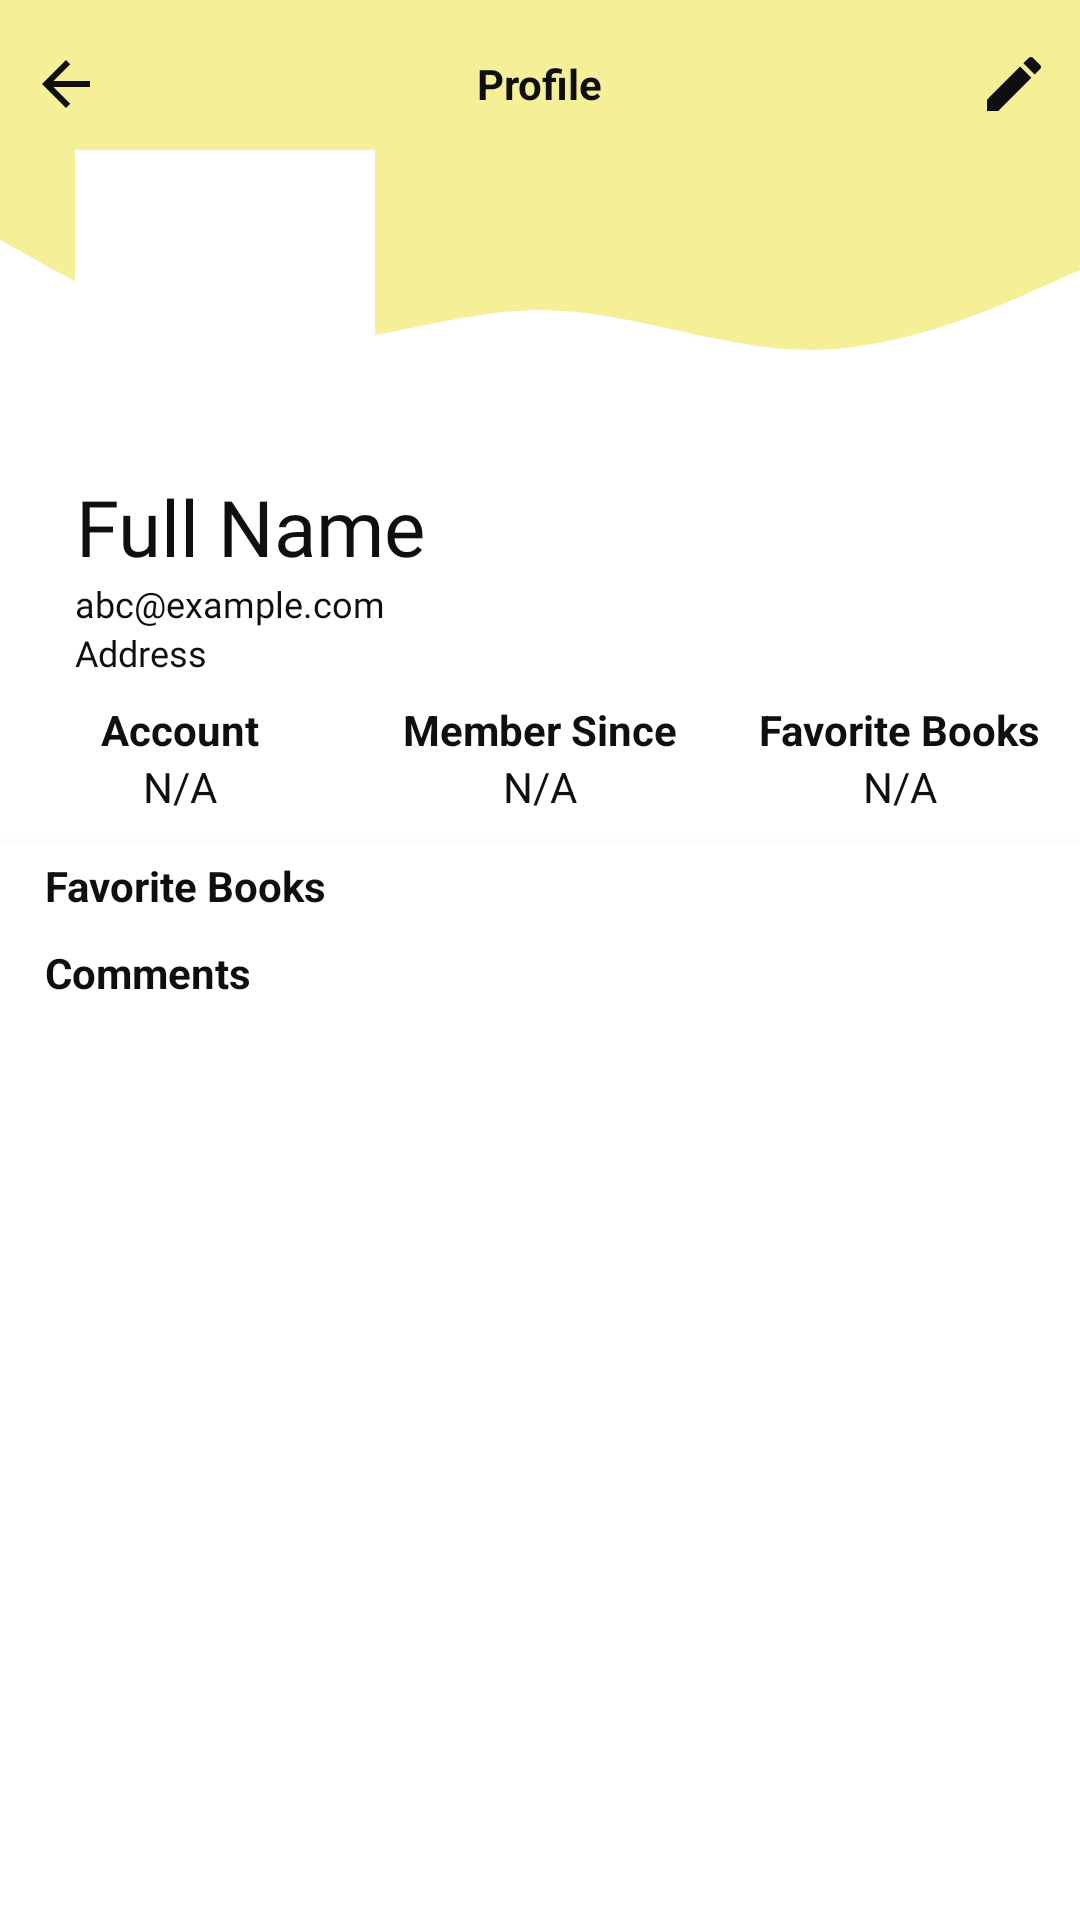

Icons on this 1080x1920 Android screen, each with its box as (x1, y1, x2, y2):
back: (42, 60, 90, 108)
edit: (987, 57, 1041, 111)
